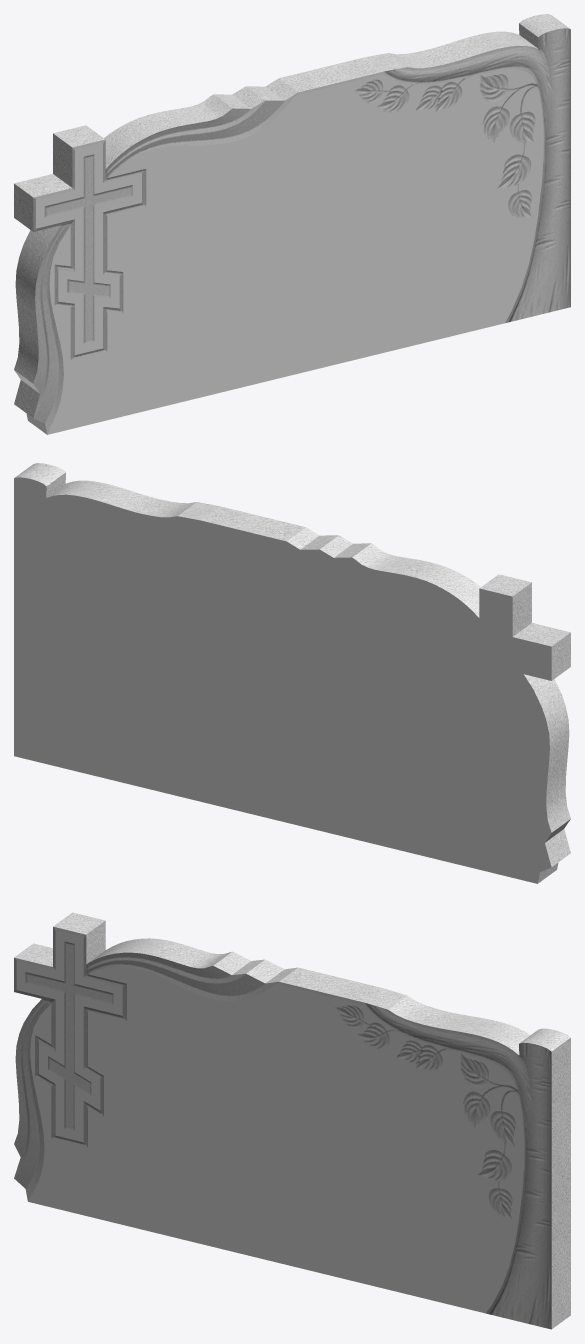
Rendered from cnc5878945fb_tkf.glb.
3 renders of one model, top to bottom at view 1: azimuth 30°, elevation 25°; view 2: azimuth 150°, elevation 25°; view 3: azimuth 330°, elevation 25°, orthographic.
Parts seen in each view (by area): view 1: Pam-d03-268, Pam-d03-268_2_notexture; view 2: Pam-d03-268, Pam-d03-268_2_notexture; view 3: Pam-d03-268, Pam-d03-268_2_notexture.
Boxes of the visible parts, box(x1,y1,x2,y2) form: Pam-d03-268: box(36, 69, 543, 434); Pam-d03-268_2_notexture: box(14, 14, 570, 434); Pam-d03-268: box(14, 477, 551, 883); Pam-d03-268_2_notexture: box(15, 463, 570, 883); Pam-d03-268: box(16, 930, 524, 1313); Pam-d03-268_2_notexture: box(14, 912, 570, 1329).
Size of the model in its own units: 0.8 by 0.4 by 0.05.
1 material, 1 textured.
